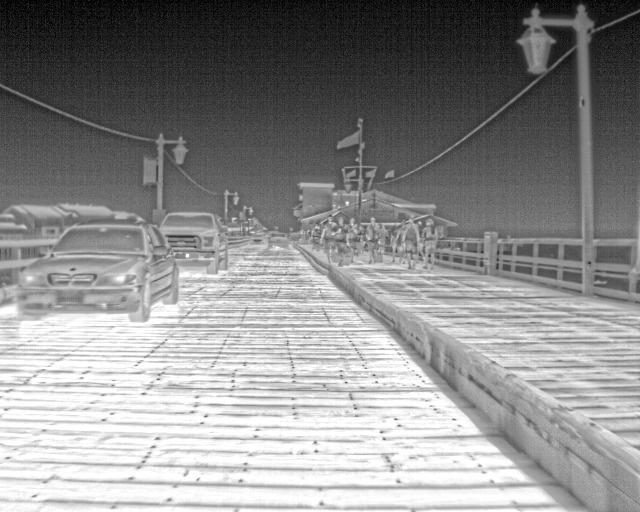bicycle: (16, 220, 179, 319), (156, 209, 231, 275), (268, 229, 291, 247), (248, 227, 268, 245)
empty: (399, 216, 423, 267), (316, 216, 337, 264), (420, 217, 439, 269), (332, 216, 350, 265), (364, 216, 381, 264), (346, 216, 362, 248)
